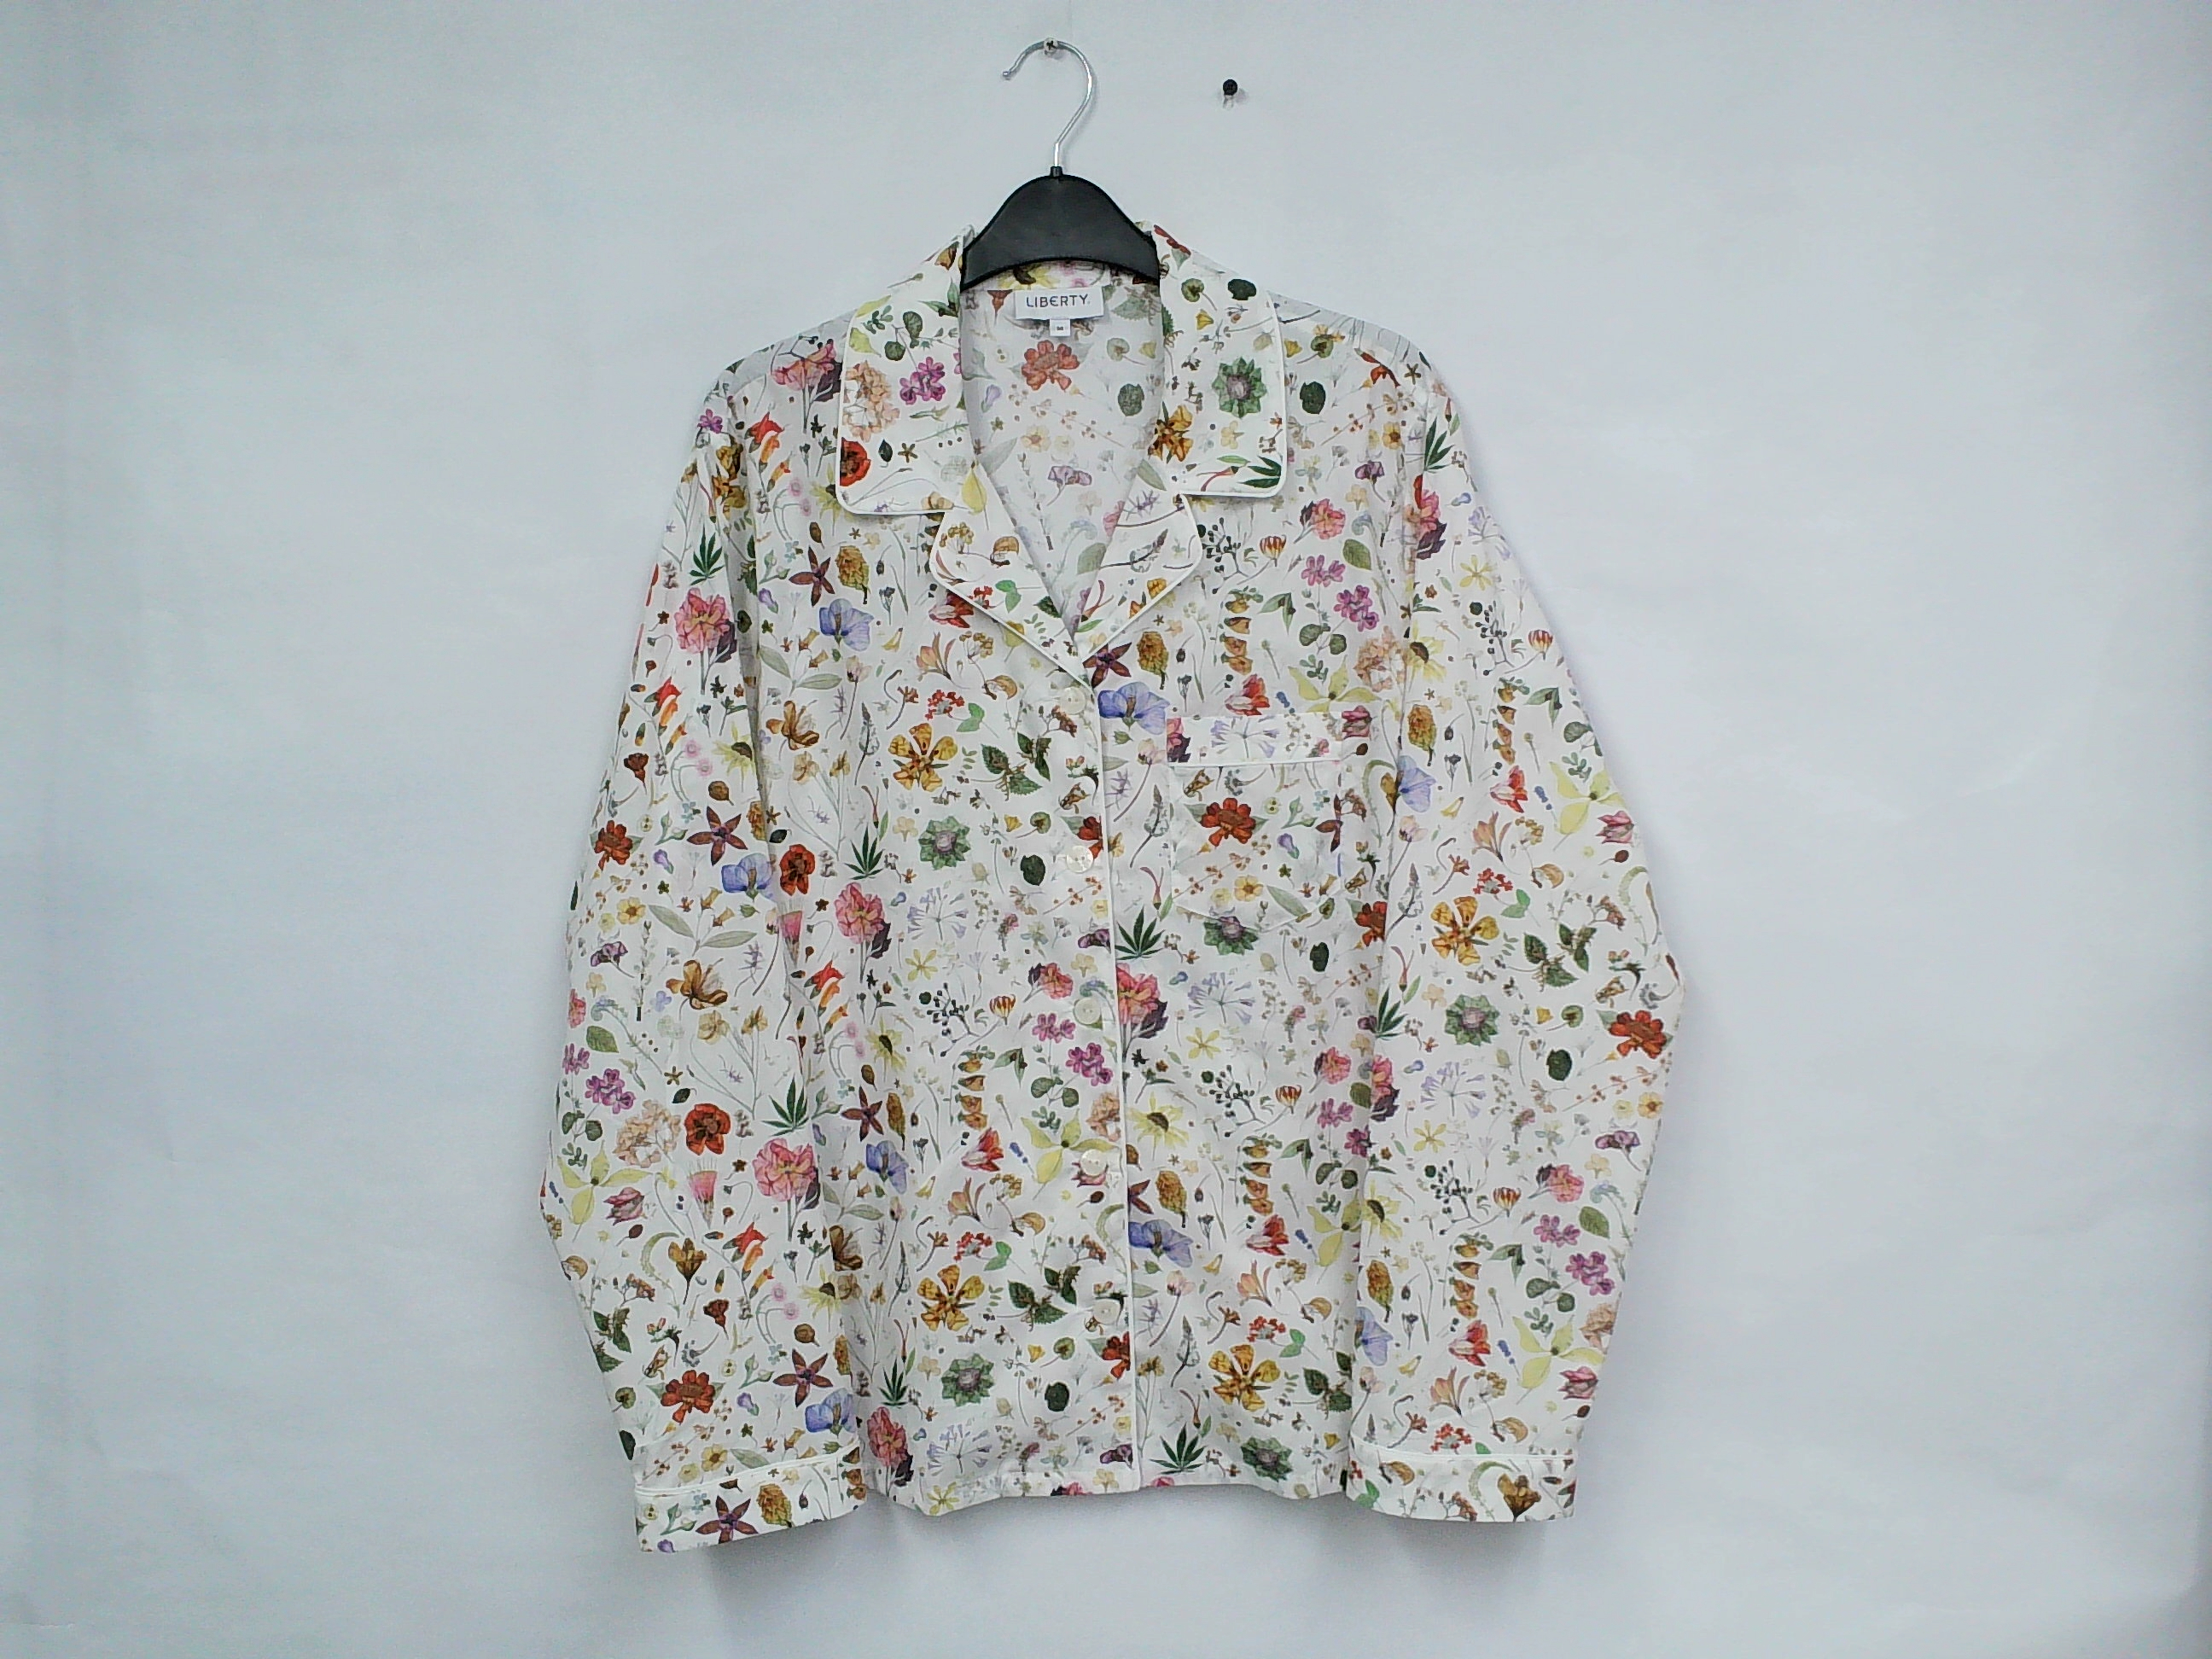deformation: (805, 481, 902, 535)
